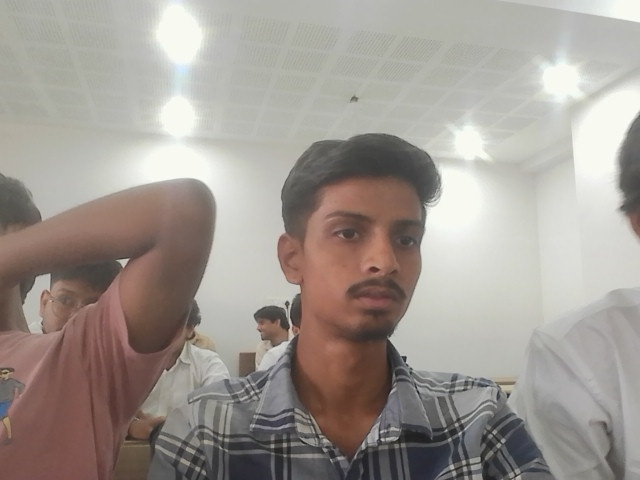light_off: (547, 233, 571, 280)
light_on: (560, 80, 639, 127), (151, 87, 203, 133), (443, 115, 493, 162), (615, 5, 636, 25)
person: (123, 131, 562, 479), (0, 135, 177, 479), (518, 121, 639, 479), (153, 283, 230, 414), (252, 304, 291, 370)
